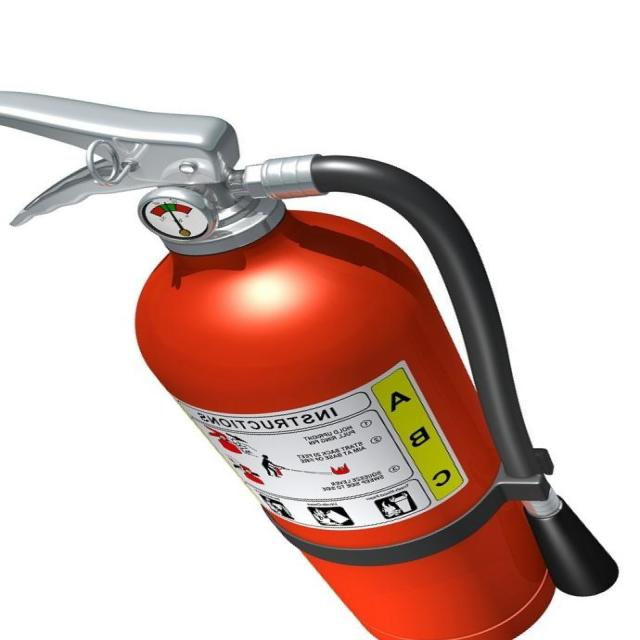fire_extinguisher: (0, 85, 621, 639)
